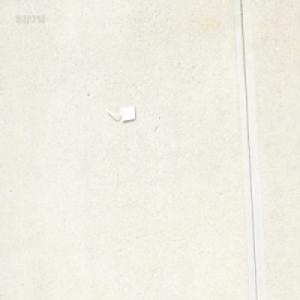LuggageTag: (105, 104, 136, 122)
